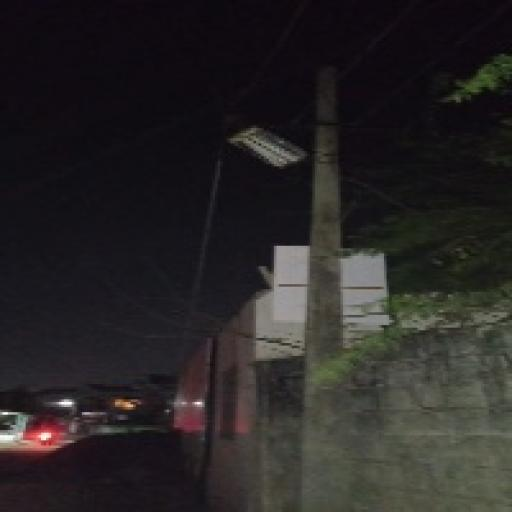Not Working: (222, 119, 324, 176)
